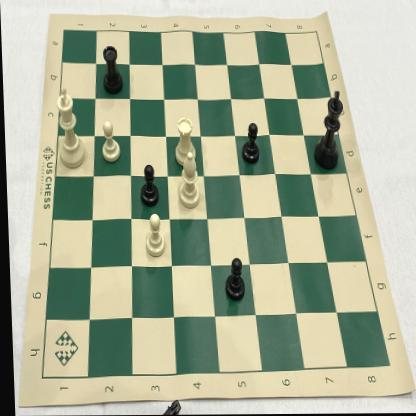black-king: (309, 89, 347, 172)
black-pawn: (220, 254, 246, 307), (135, 162, 159, 210), (239, 118, 259, 169)
black-rook: (98, 43, 126, 98)
white-bishop: (172, 148, 202, 214)
white-king: (51, 82, 88, 173)
white-pawn: (138, 212, 167, 261), (98, 116, 122, 165)
white-rook: (170, 112, 197, 171)
